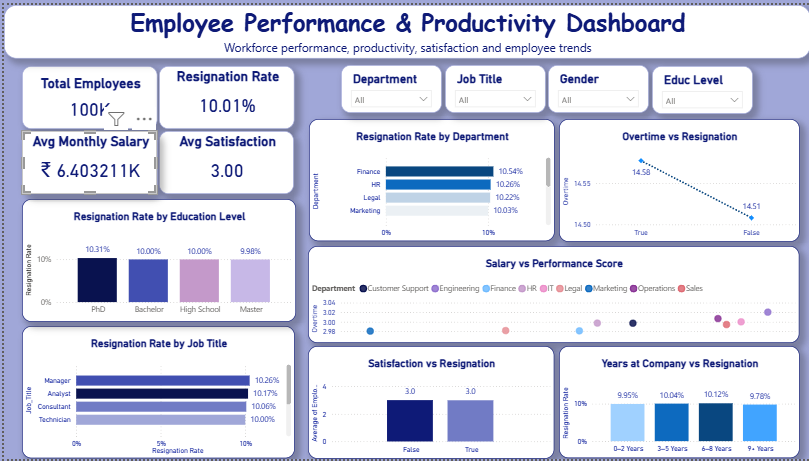

What the dashboard file says about the page in this screenshot:
{"tool":"powerbi","page":{"name":"Page 1","canvas":[1280,720],"ordinal":0},"visuals":[{"type":"cardVisual","title":"Total Employees","fields":{"Data":["CountNonNull(Employee_Data.Employee_ID)"]},"box":[28.2,96.5,214.6,100],"z":0},{"type":"clusteredBarChart","fields":{"Category":["Employee_Data.Department"],"Y":["Employee_Data.Resignation Rate"]},"box":[483.3,181.1,390,194.4],"z":1000},{"type":"textbox","title":"Employee Performance & Productivity Dashboard","box":[0,0,1280,84.6],"z":2000},{"type":"cardVisual","title":"Resignation Rate","fields":{"Data":["Employee_Data.Resignation Rate"]},"box":[246.7,96.2,215.4,100],"z":3000},{"type":"cardVisual","title":"Avg Monthly Salary","fields":{"Data":["Avg(Employee_Data.Monthly_Salary)"]},"box":[27.8,200.5,215.1,99.5],"z":4000},{"type":"cardVisual","title":"Avg Satisfaction","fields":{"Data":["Avg(Employee_Data.Employee_Satisfaction_Score)"]},"box":[246.7,200.4,214.1,100],"z":5000},{"type":"slicer","fields":{"Values":["Employee_Data.Department"]},"box":[535,95.8,160,76],"z":6000},{"type":"slicer","fields":{"Values":["Employee_Data.Job_Title"]},"box":[699.7,95.6,160,76],"z":7000},{"type":"slicer","fields":{"Values":["Employee_Data.Gender"]},"box":[863.3,95.6,160,76],"z":8000},{"type":"slicer","fields":{"Values":["Employee_Data.Education_Level"]},"box":[1028,96.1,160,76],"z":9000},{"type":"clusteredBarChart","title":"Resignation Rate by Job Title","fields":{"Y":["Employee_Data.Resignation Rate"],"Category":["Employee_Data.Job_Title"]},"box":[28.3,510,433.3,210],"z":10000},{"type":"clusteredColumnChart","title":"Resignation Rate by Education Level","fields":{"Category":["Employee_Data.Education_Level"],"Y":["Employee_Data.Resignation Rate"]},"box":[27.8,307.3,434.6,194.6],"z":11000},{"type":"lineChart","title":"Overtime vs Resignation ","fields":{"Category":["Employee_Data.Resigned"],"Y":["Avg(Employee_Data.Overtime_Hours)"]},"box":[880.9,180.9,381.8,194.5],"z":12000},{"type":"scatterChart","title":"Salary vs Performance Score","fields":{"X":["Avg(Employee_Data.Monthly_Salary)"],"Y":["Avg(Employee_Data.Performance_Score)"],"Series":["Employee_Data.Department"]},"box":[482.9,382,780,153.7],"z":13000},{"type":"columnChart","title":"Satisfaction vs Resignation","fields":{"Category":["Employee_Data.Resigned"],"Y":["Avg(Employee_Data.Employee_Satisfaction_Score)"]},"box":[482.9,541.5,390.7,178.5],"z":14000},{"type":"clusteredColumnChart","title":"Years at Company vs Resignation","fields":{"Y":["Employee_Data.Resignation Rate"],"Category":["Employee_Data.Tenure Group"]},"box":[881,542,382,178],"z":15000}]}

Visuals, with their boxes in screenshot pixels (x1, y1, x2, y2), scaled from the page's 1280x720 canvas onto the 809x461 screenshot:
"Total Employees" cardVisual: (x1=18, y1=62, x2=153, y2=126)
clusteredBarChart - Employee_Data.Department x Employee_Data.Resignation Rate: (x1=305, y1=116, x2=552, y2=240)
"Employee Performance & Productivity Dashboard" textbox: (x1=0, y1=0, x2=808, y2=54)
"Resignation Rate" cardVisual: (x1=156, y1=62, x2=292, y2=126)
"Avg Monthly Salary" cardVisual: (x1=18, y1=128, x2=154, y2=192)
"Avg Satisfaction" cardVisual: (x1=156, y1=128, x2=291, y2=192)
slicer - Employee_Data.Department: (x1=338, y1=61, x2=439, y2=110)
slicer - Employee_Data.Job_Title: (x1=442, y1=61, x2=543, y2=110)
slicer - Employee_Data.Gender: (x1=546, y1=61, x2=647, y2=110)
slicer - Employee_Data.Education_Level: (x1=650, y1=62, x2=751, y2=110)
"Resignation Rate by Job Title" clusteredBarChart: (x1=18, y1=327, x2=292, y2=460)
"Resignation Rate by Education Level" clusteredColumnChart: (x1=18, y1=197, x2=292, y2=321)
"Overtime vs Resignation " lineChart: (x1=557, y1=116, x2=798, y2=240)
"Salary vs Performance Score" scatterChart: (x1=305, y1=245, x2=798, y2=343)
"Satisfaction vs Resignation" columnChart: (x1=305, y1=347, x2=552, y2=460)
"Years at Company vs Resignation" clusteredColumnChart: (x1=557, y1=347, x2=798, y2=460)
